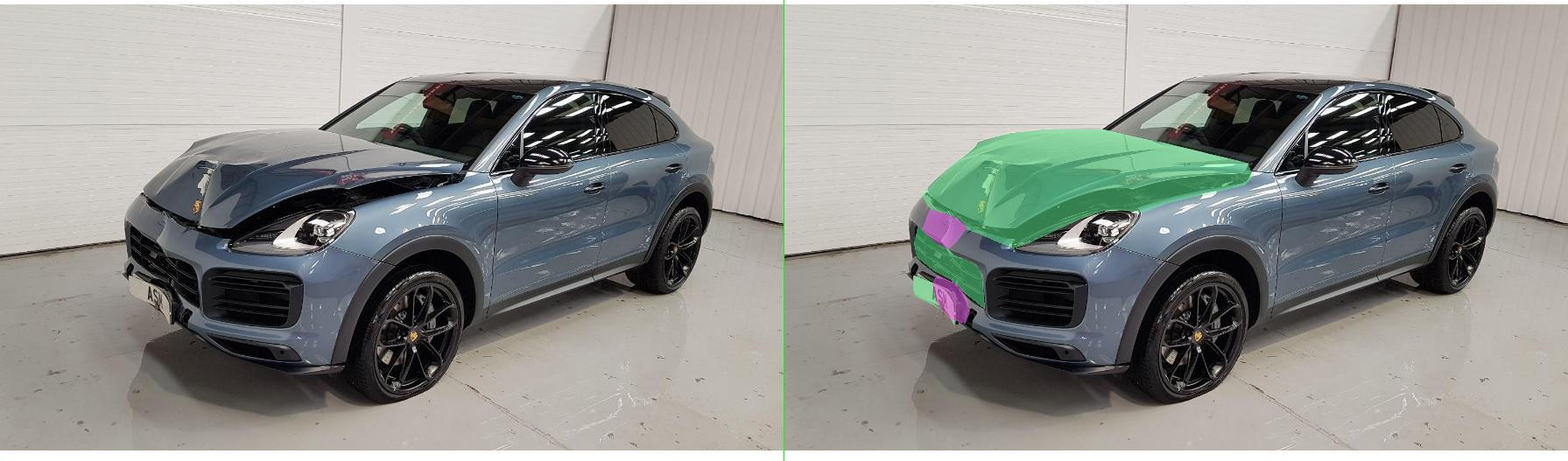Broken part: (275, 129, 936, 248), (259, 227, 399, 308), (258, 276, 340, 325)
Dent: (301, 160, 440, 224), (296, 276, 370, 323), (275, 209, 364, 248)
